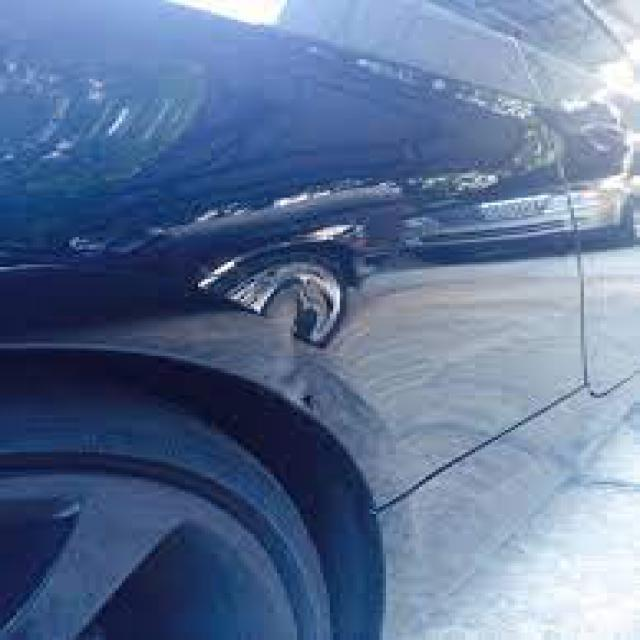quaterpanel-dent: (3, 5, 548, 524)
